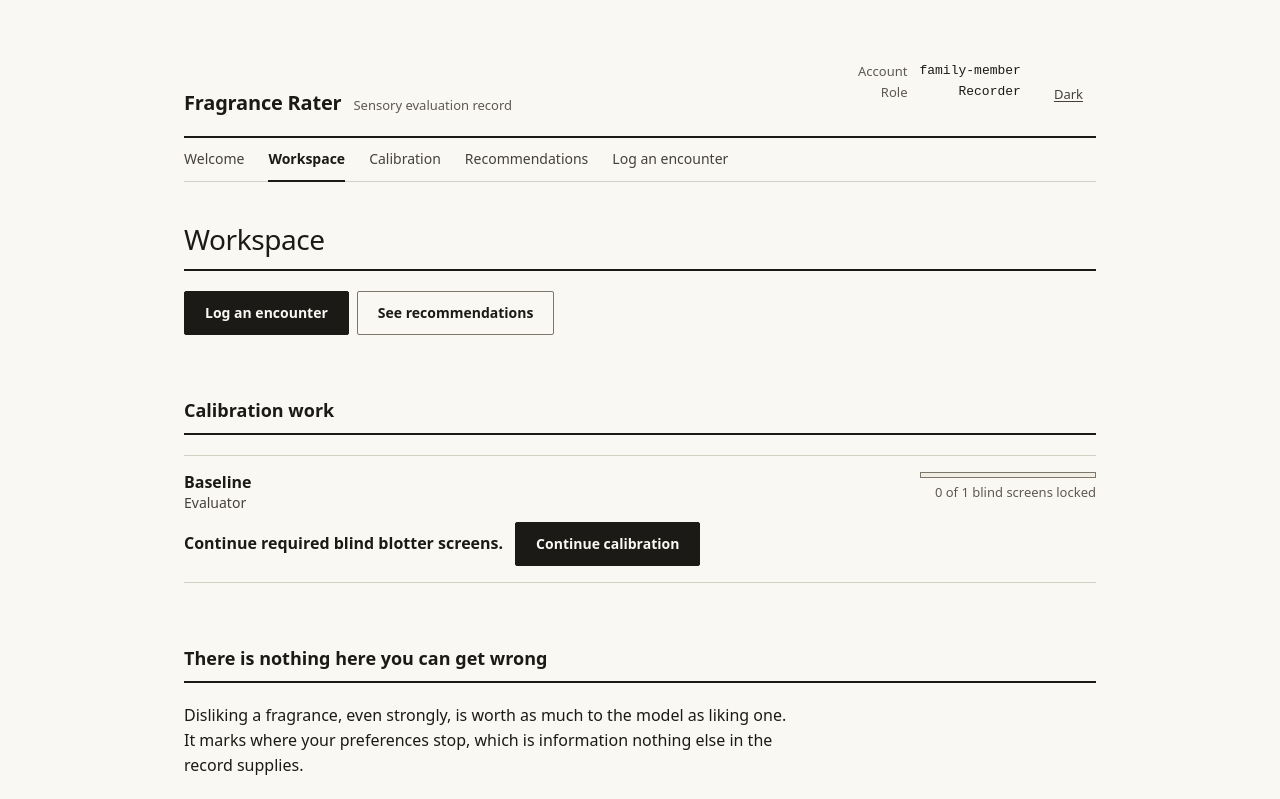
Test case: WorkspacePage › shows one row per open enrollment with its own deep-linking action
The width and height of the screenshot is (1280, 799).
Check: the heading "Baseline" is shown, box [184,471,252,493]
Check: the text "Continue required blind blotter screens." is shown, box [184,532,503,554]
Click the button "Continue calibration" at (608, 544), box [515,522,700,566]
(page scrolled)
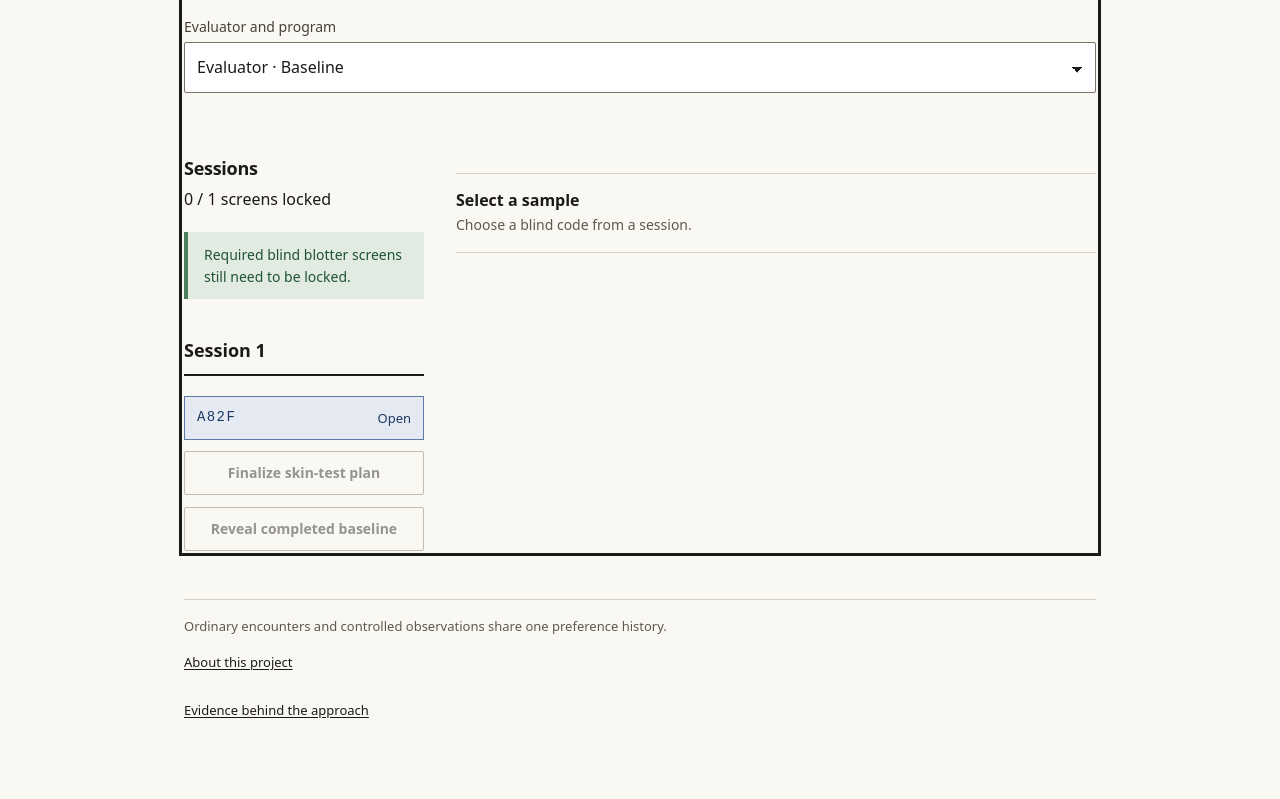
Check: the dropdown labelled "Evaluator and program" shows "Evaluator · Baseline", box [184,42,1096,93]
Check: the button "A82F Open" is shown, box [184,396,424,440]
